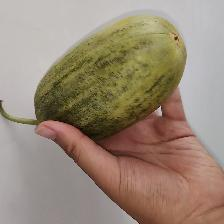gua: (58, 32, 160, 120)
